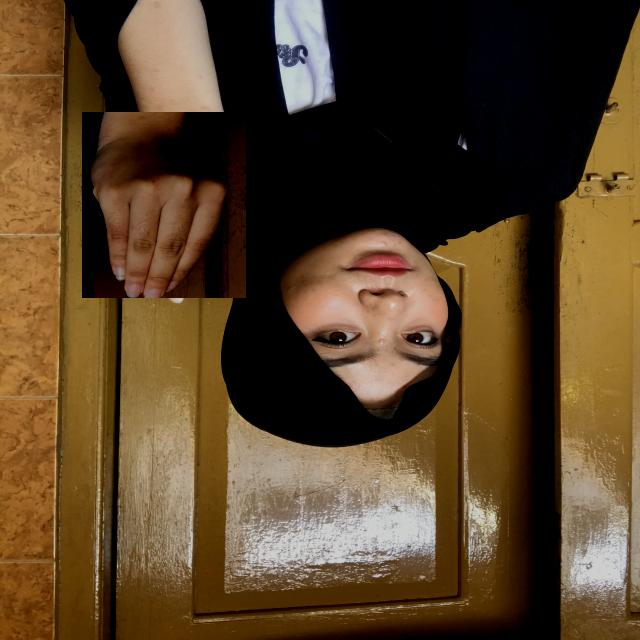berapa: (82, 112, 246, 298)
